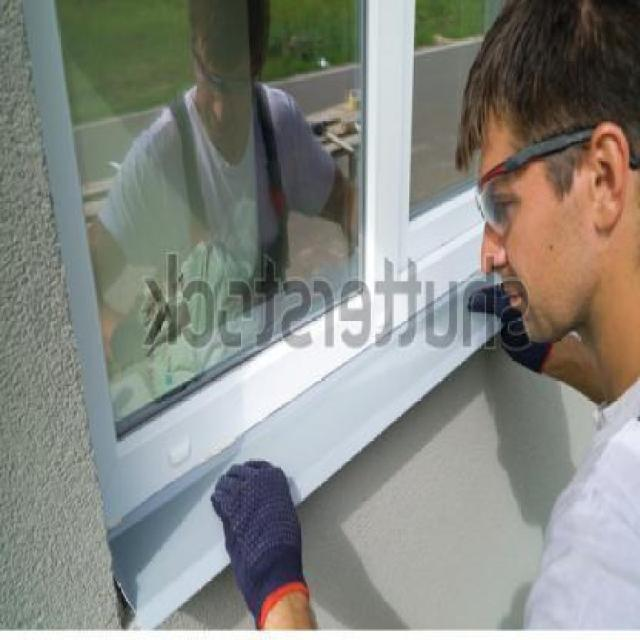face_nomask: (464, 164, 558, 324)
glasses: (476, 120, 638, 238)
hand_glove: (204, 443, 310, 595), (466, 278, 556, 382)
